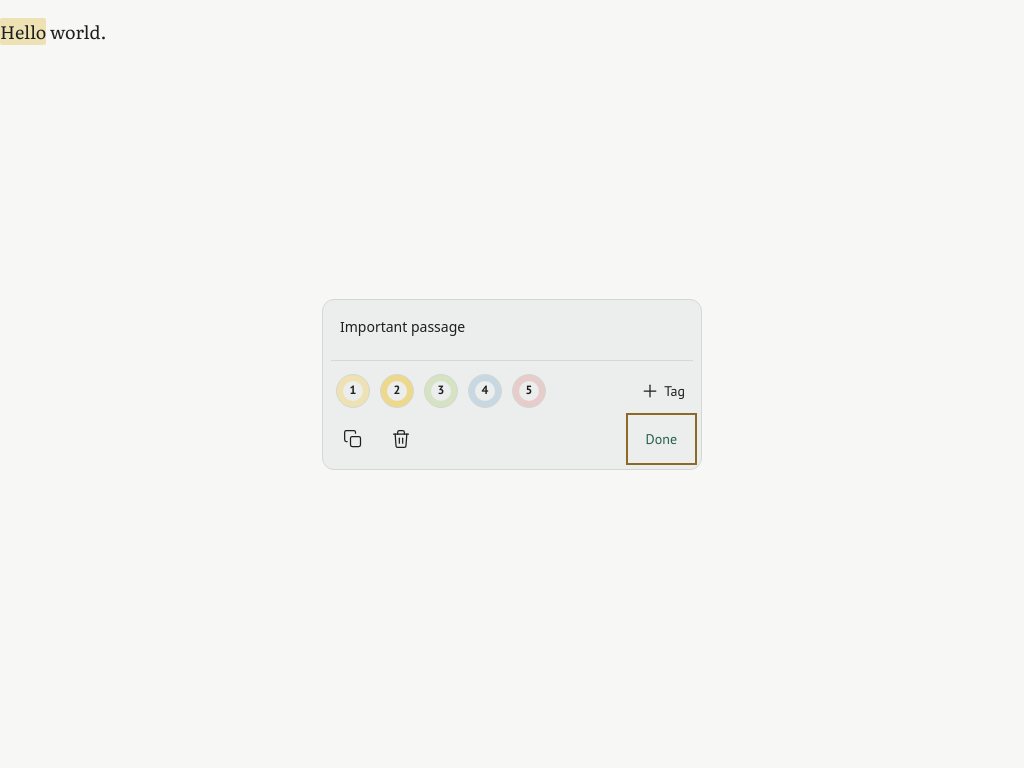
Test: Unified annotation session › inline tag editing preserves the note, chains commits, and keeps focus in the field
The width and height of the screenshot is (1024, 768).
Click the button with aria-label "Add tag" at (663, 390), box [632, 368, 693, 412]
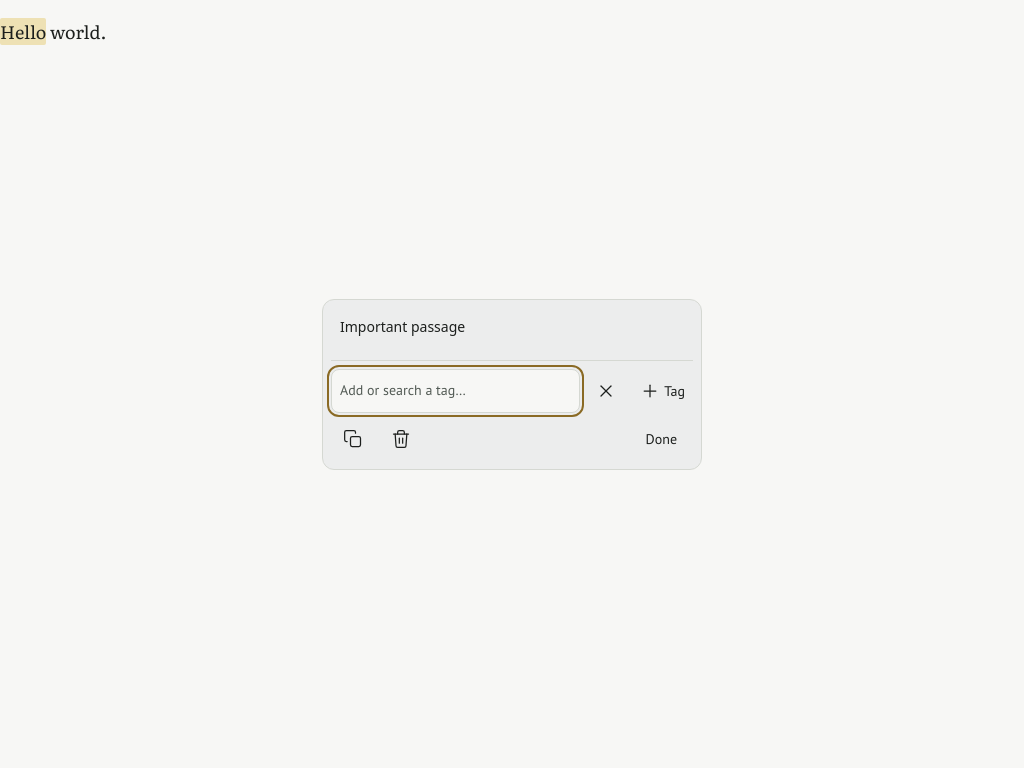
Expected: the text box named "note" holds "Important passage", [331, 308, 693, 352]
Type "philosophy" into the dropdown at (456, 390), box [331, 368, 580, 412]
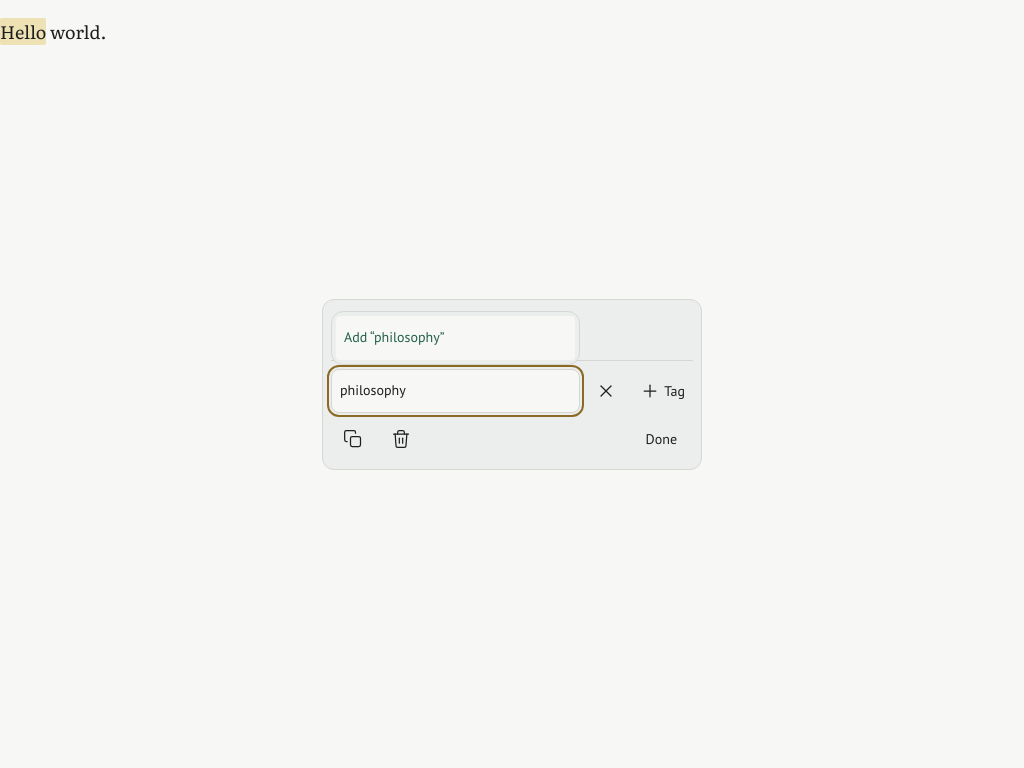
Press Enter
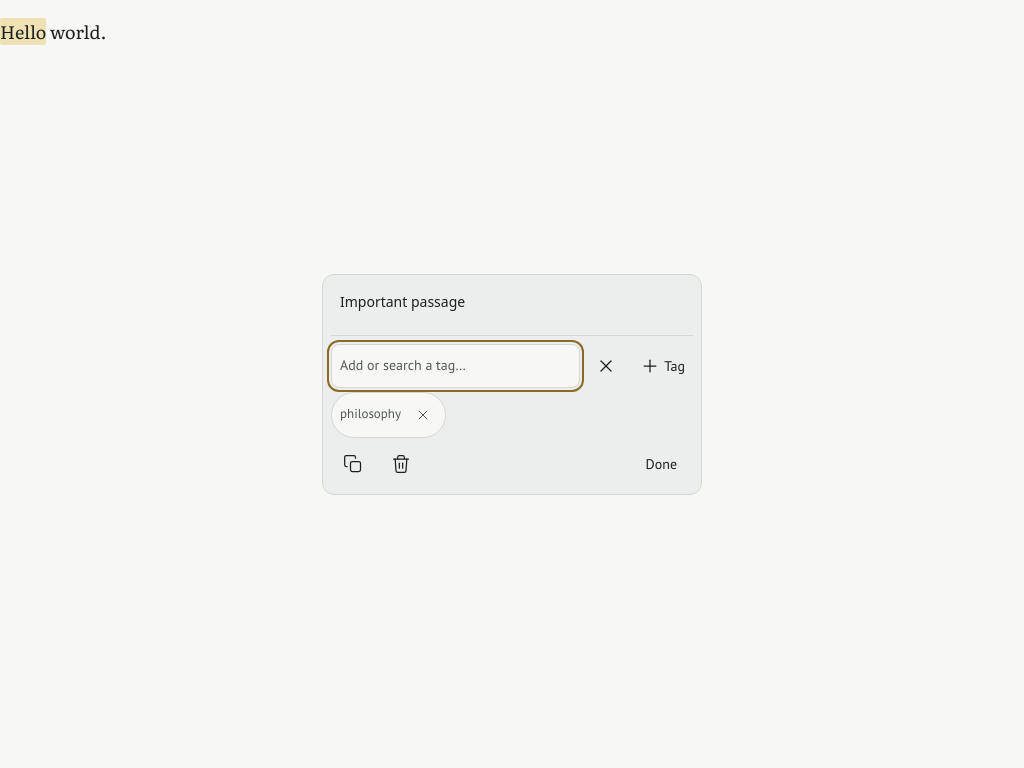
Expected: the text box named "note" holds "Important passage", [331, 282, 693, 326]
Expected: the button named "Remove tag philosophy" is shown, [401, 392, 445, 436]
Expected: the dropdown is empty, [331, 344, 580, 388]
